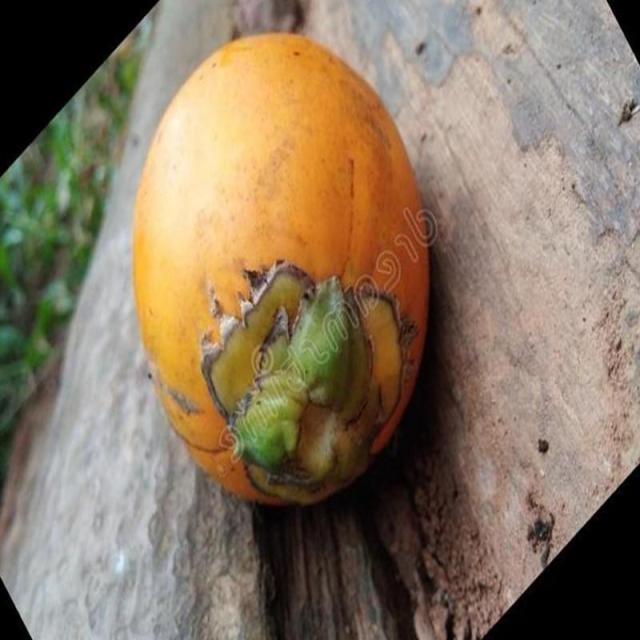good: (132, 34, 429, 510)
